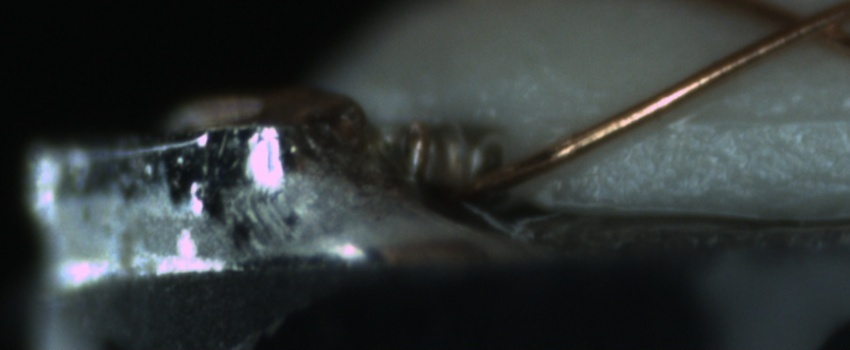CL: (757, 1, 847, 54)
DL: (690, 87, 845, 141)
TE: (399, 114, 494, 193)
